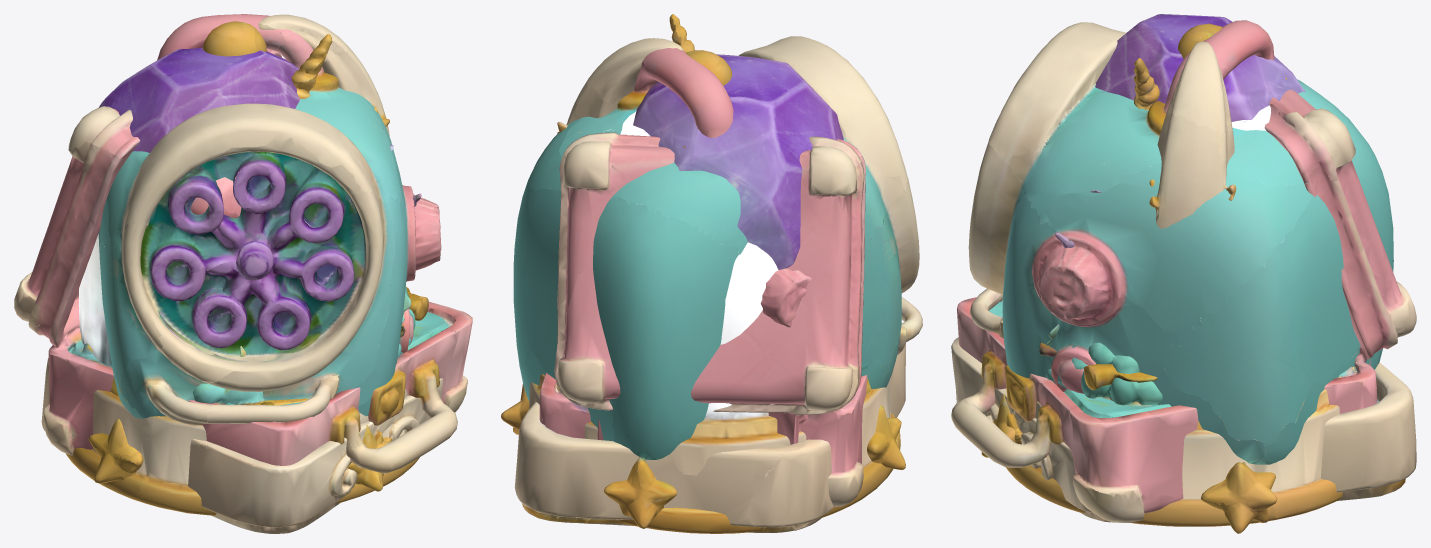
The model's file is store_items_sheet_16_mobile.glb.
The picture shows the model from 3 angles, left to right: view 1: azimuth 30°, elevation 25°; view 2: azimuth 150°, elevation 25°; view 3: azimuth 270°, elevation 25°; orthographic projection. The views are drawn at different scales.
Parts seen in each view (by area): view 1: bubble_machine, record_player, terrarium, crystal_ball, zen_garden, uni_fountain; view 2: bubble_machine, record_player, crystal_ball, zen_garden, terrarium, uni_fountain; view 3: bubble_machine, record_player, crystal_ball, terrarium, zen_garden, uni_fountain.
Part boxes in pixels (x1,y1,x2,y2): bubble_machine: [88, 14, 441, 491]; record_player: [14, 48, 472, 473]; terrarium: [66, 21, 421, 515]; crystal_ball: [99, 14, 390, 293]; zen_garden: [41, 358, 442, 533]; uni_fountain: [291, 34, 332, 98]; bubble_machine: [501, 36, 922, 528]; record_player: [539, 132, 867, 506]; crystal_ball: [557, 38, 843, 269]; zen_garden: [514, 344, 905, 532]; terrarium: [529, 50, 900, 533]; uni_fountain: [669, 14, 694, 52]; bubble_machine: [968, 20, 1393, 533]; record_player: [951, 89, 1416, 522]; crystal_ball: [1095, 14, 1305, 228]; terrarium: [1006, 23, 1355, 526]; zen_garden: [951, 337, 1416, 522]; uni_fountain: [1133, 58, 1159, 110].
Size of the model in its own units: 1.45 by 1.55 by 1.55.
Materials: 1 (1 with a texture image).
